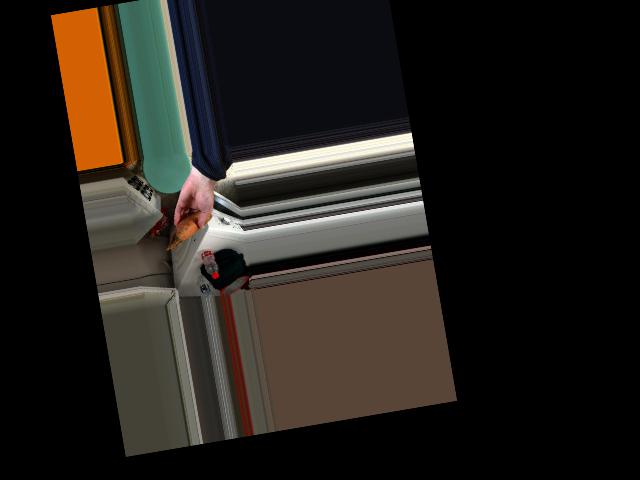sweet_potato: (173, 205, 210, 241)
